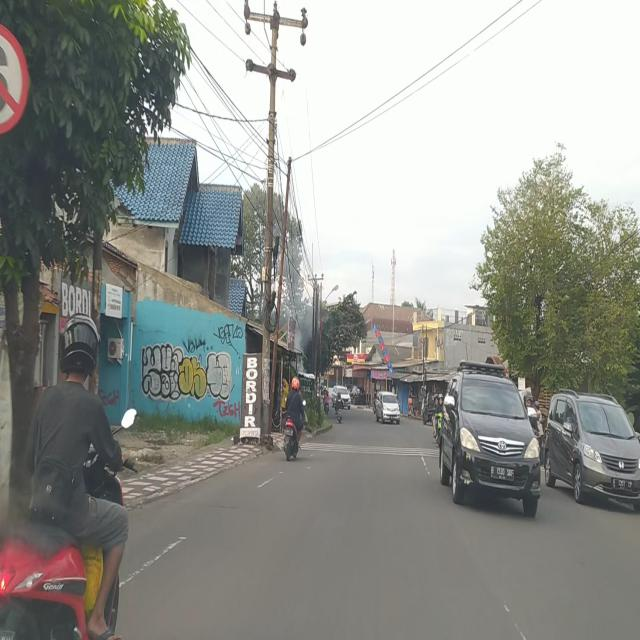Sewer Cover: (158, 498, 250, 511)
